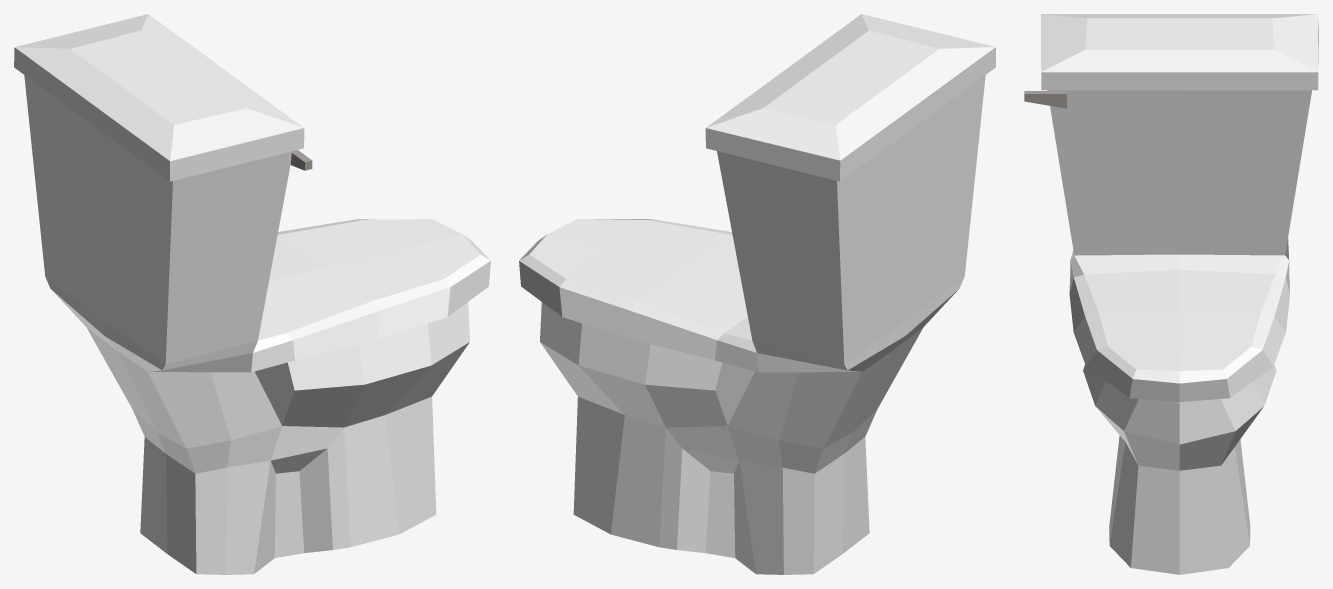
The model's file is Bathroom_Toilet.fbx.
The picture shows the model from 3 angles, left to right: view 1: azimuth 30°, elevation 25°; view 2: azimuth 150°, elevation 25°; view 3: azimuth 270°, elevation 25°; orthographic projection. The views are drawn at different scales.
Parts seen in each view (by area): view 1: Bathroom_Toilet; view 2: Bathroom_Toilet; view 3: Bathroom_Toilet.
Part boxes in pixels (bbox=[...]): Bathroom_Toilet: bbox=[14, 14, 490, 574]; Bathroom_Toilet: bbox=[519, 14, 995, 574]; Bathroom_Toilet: bbox=[1024, 14, 1318, 574].
Size of the model in its own units: 102 by 126 by 77.1.
